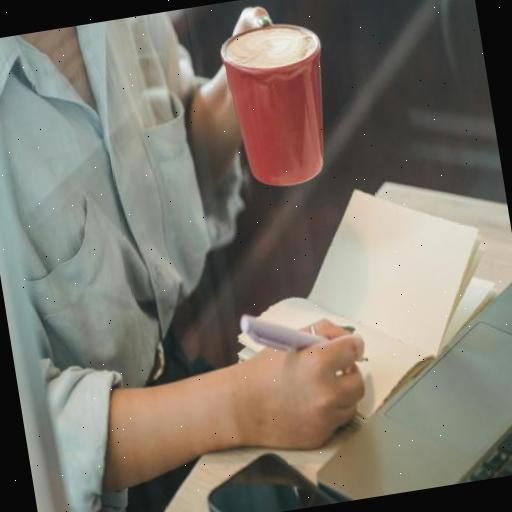cup: (218, 16, 342, 192)
phone: (201, 439, 349, 512)
